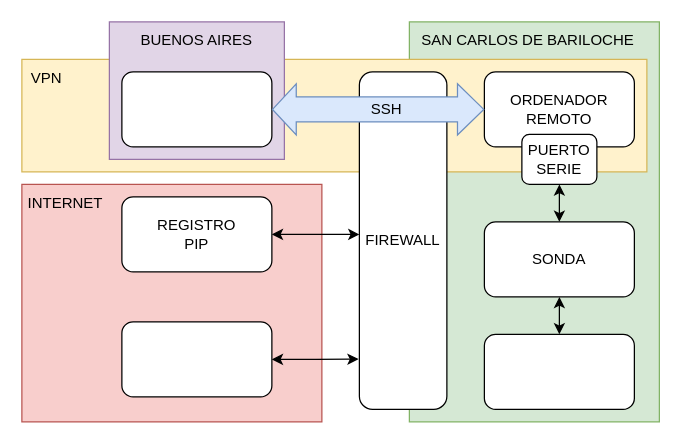
This 681x444 diagram has some shape labels left out. The centre of each missing label's shape, as x and y in pixels:
DISPOSITIVO BAJO PRUEBA: [558,371]
ORDENADOR PERSONAL: [196,109]
REGISTRO UBUNTU: [196,359]
